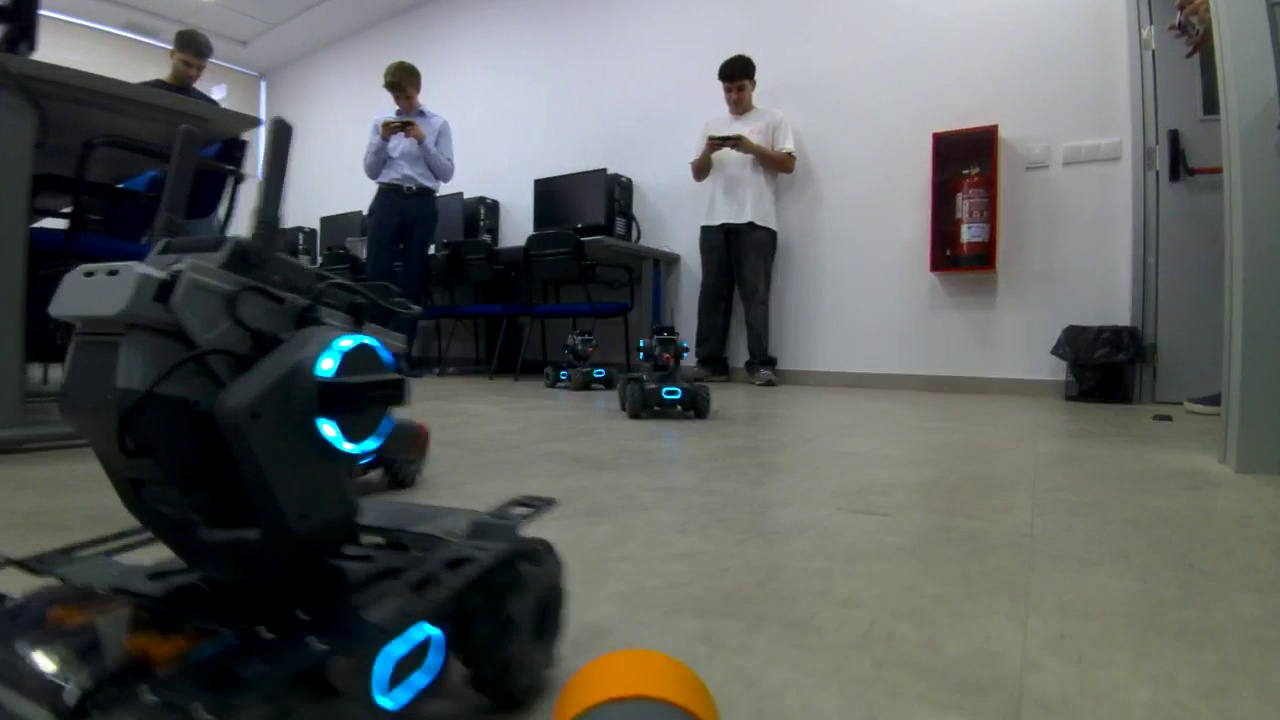robot: (2, 113, 553, 720), (627, 315, 721, 425), (539, 323, 616, 393)
